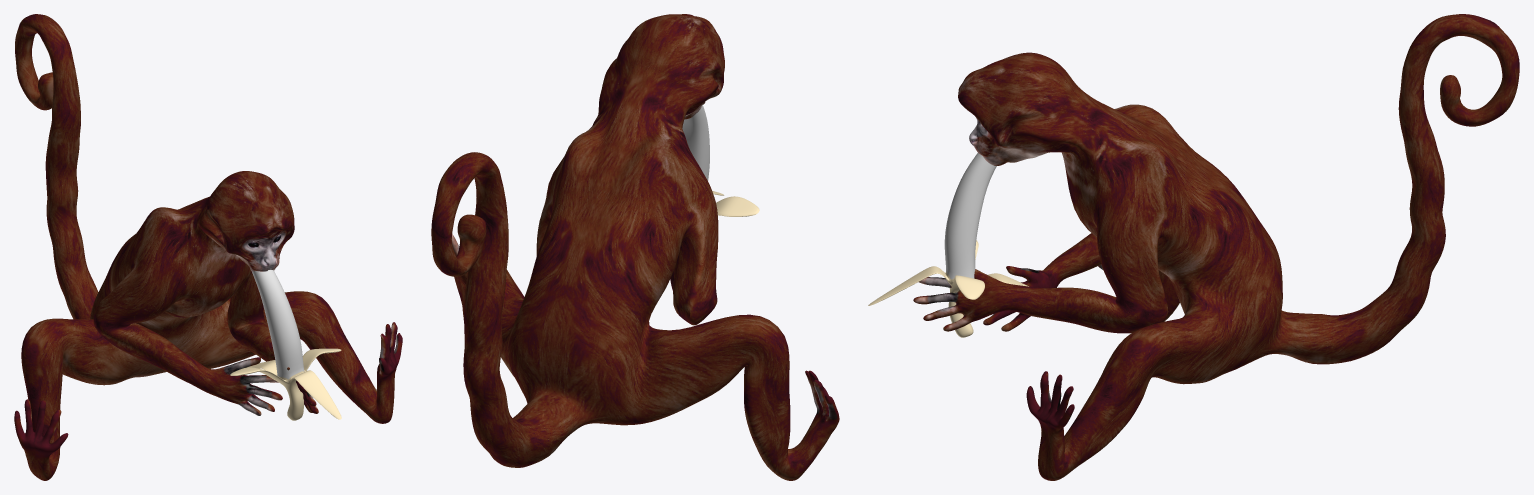
The model's file is monkey.glb.
The picture shows the model from 3 angles, left to right: view 1: azimuth 30°, elevation 25°; view 2: azimuth 150°, elevation 25°; view 3: azimuth 270°, elevation 25°; orthographic projection. The views are drawn at different scales.
Parts seen in each view (by area): view 1: Default, Cube; view 2: Default, Cube; view 3: Default, Cube.
Boxes of the visible parts, box(x1,y1,x2,y2) form: Default: box(14, 14, 402, 480); Cube: box(230, 270, 341, 420); Default: box(431, 14, 839, 480); Cube: box(682, 105, 759, 216); Default: box(913, 14, 1519, 480); Cube: box(868, 153, 1028, 337).
Bounding box in the file's own units: 78.37 × 69.46 × 106.
3 materials, 1 textured.
